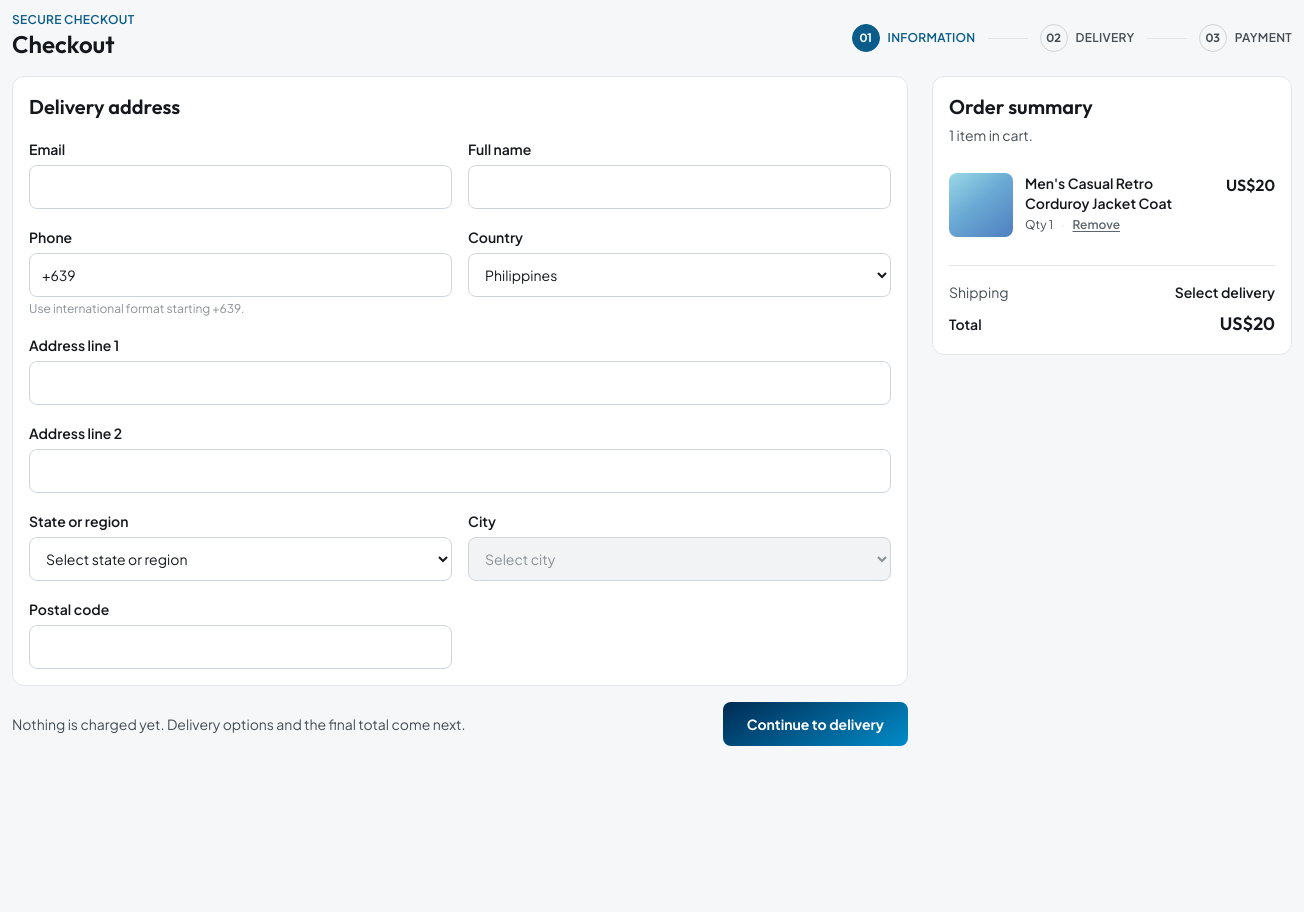
Scenario: checkout flow across routes › keeps the buyer on information when the address is invalid
Click the button "Continue to delivery" at [815, 724], box [723, 702, 908, 746]
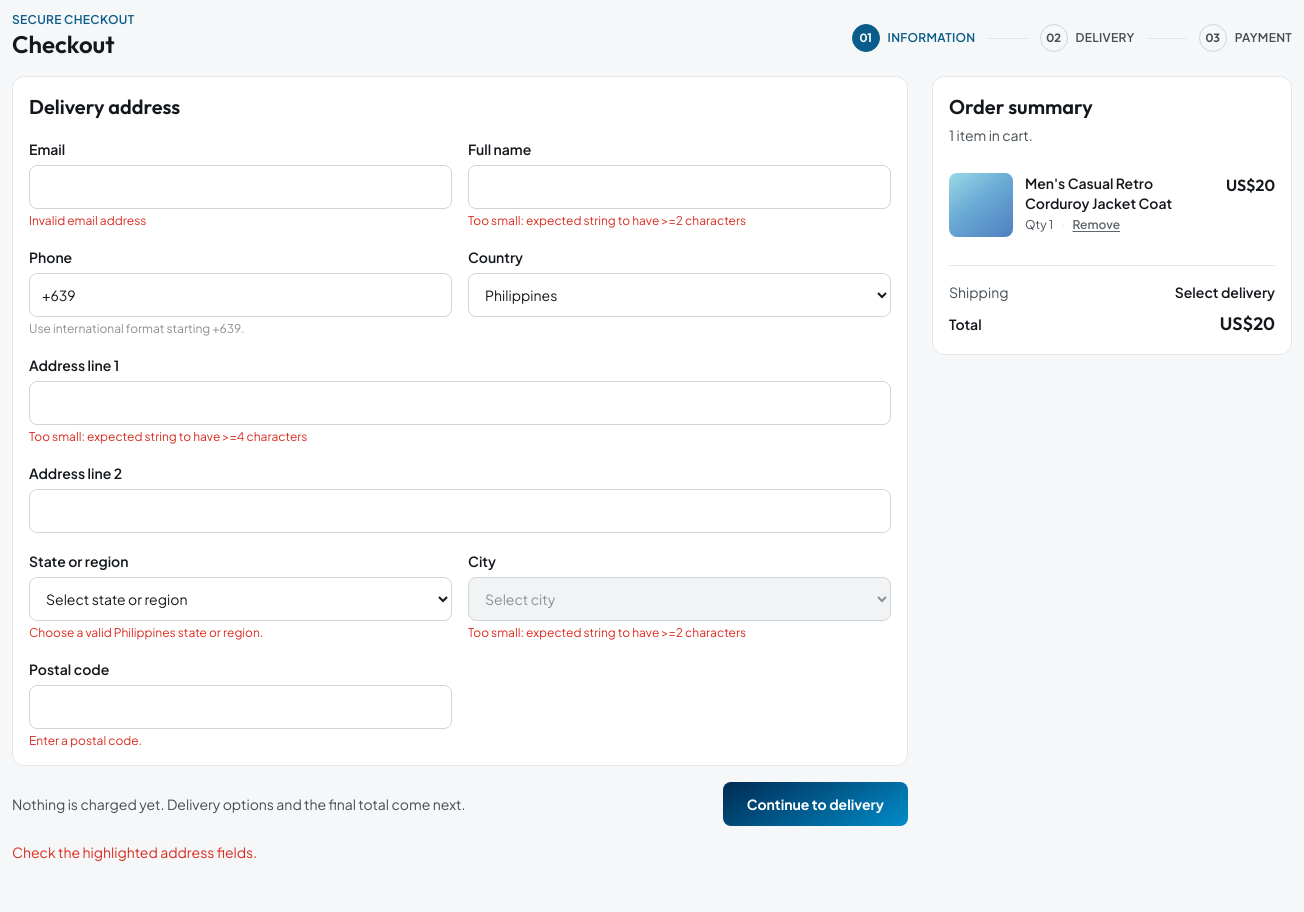
Expected: the text "Check the highlighted address fields." is shown, [12, 843, 257, 861]
